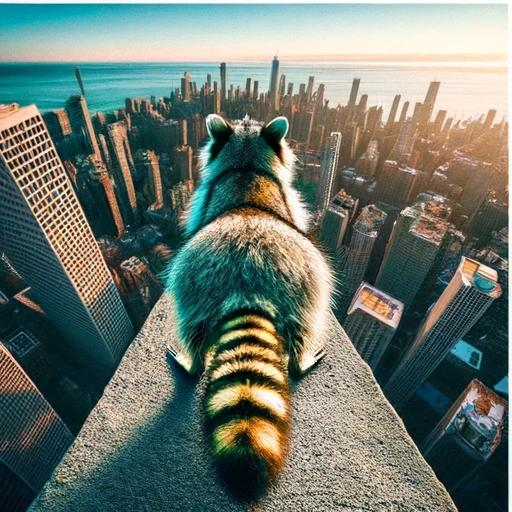raccoon: (147, 102, 351, 512)
